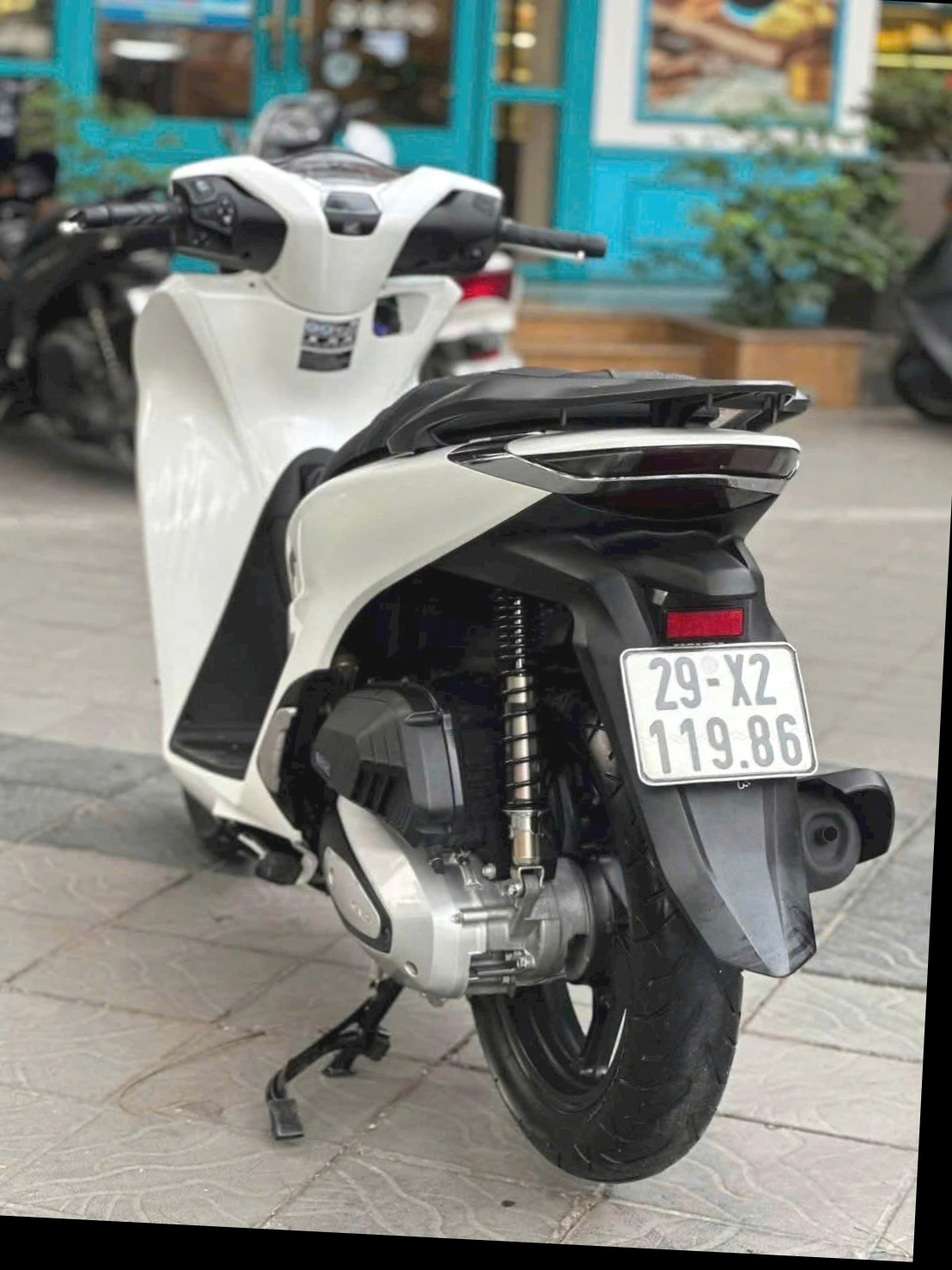Bien-so: (653, 636, 834, 780)
